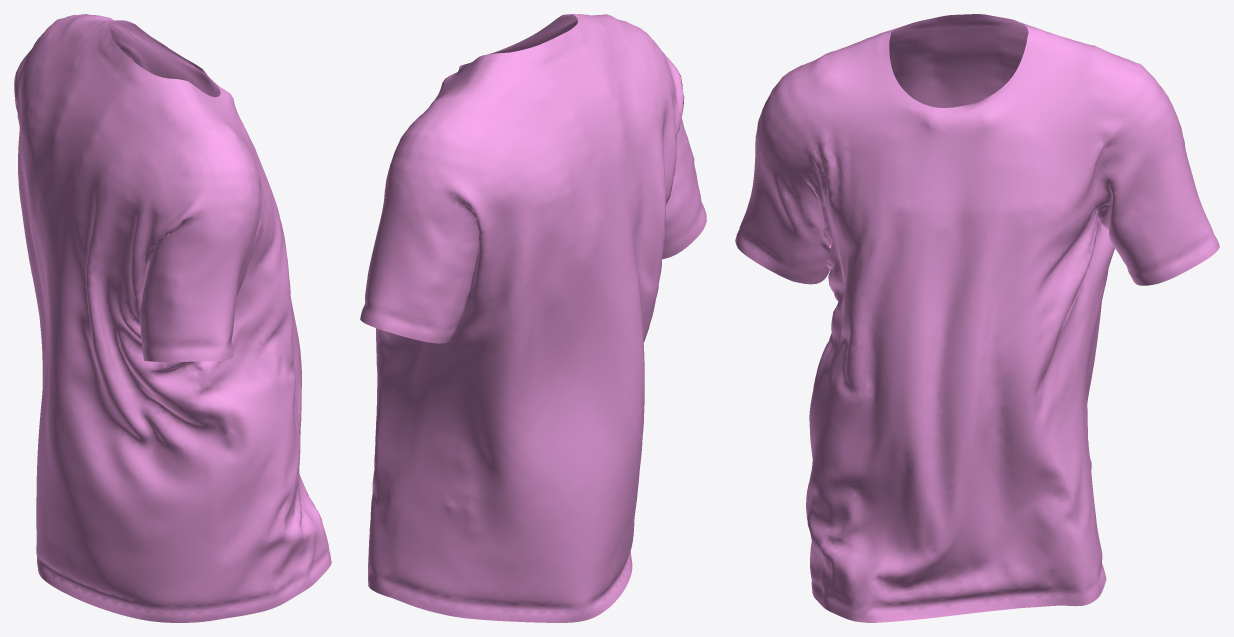
The model's file is 1762473948116-lugaFata.glb.
The picture shows the model from 3 angles, left to right: view 1: azimuth 30°, elevation 25°; view 2: azimuth 150°, elevation 25°; view 3: azimuth 270°, elevation 25°; orthographic projection. The views are drawn at different scales.
Parts seen in each view (by area): view 1: Material1722, Material1718, Material1724, Material1720; view 2: Material1722, Material1724, Material1718, Material1720; view 3: Material1718, Material1724, Material1722, Material1720.
Part boxes in pixels (left/top/right/bottom): Material1722: left=14, top=14, right=223, bottom=622; Material1718: left=88, top=14, right=331, bottom=618; Material1724: left=16, top=29, right=260, bottom=362; Material1720: left=102, top=20, right=230, bottom=105; Material1722: left=392, top=14, right=677, bottom=622; Material1724: left=360, top=41, right=706, bottom=343; Material1718: left=368, top=14, right=629, bottom=597; Material1720: left=454, top=14, right=586, bottom=76; Material1718: left=776, top=35, right=1144, bottom=622; Material1724: left=735, top=75, right=1219, bottom=285; Material1722: left=783, top=20, right=1151, bottom=586; Material1720: left=876, top=14, right=1038, bottom=119.
Size of the model in its own units: 32.85 by 70.89 by 56.91.
Materials: 4 (2 with a texture image).
